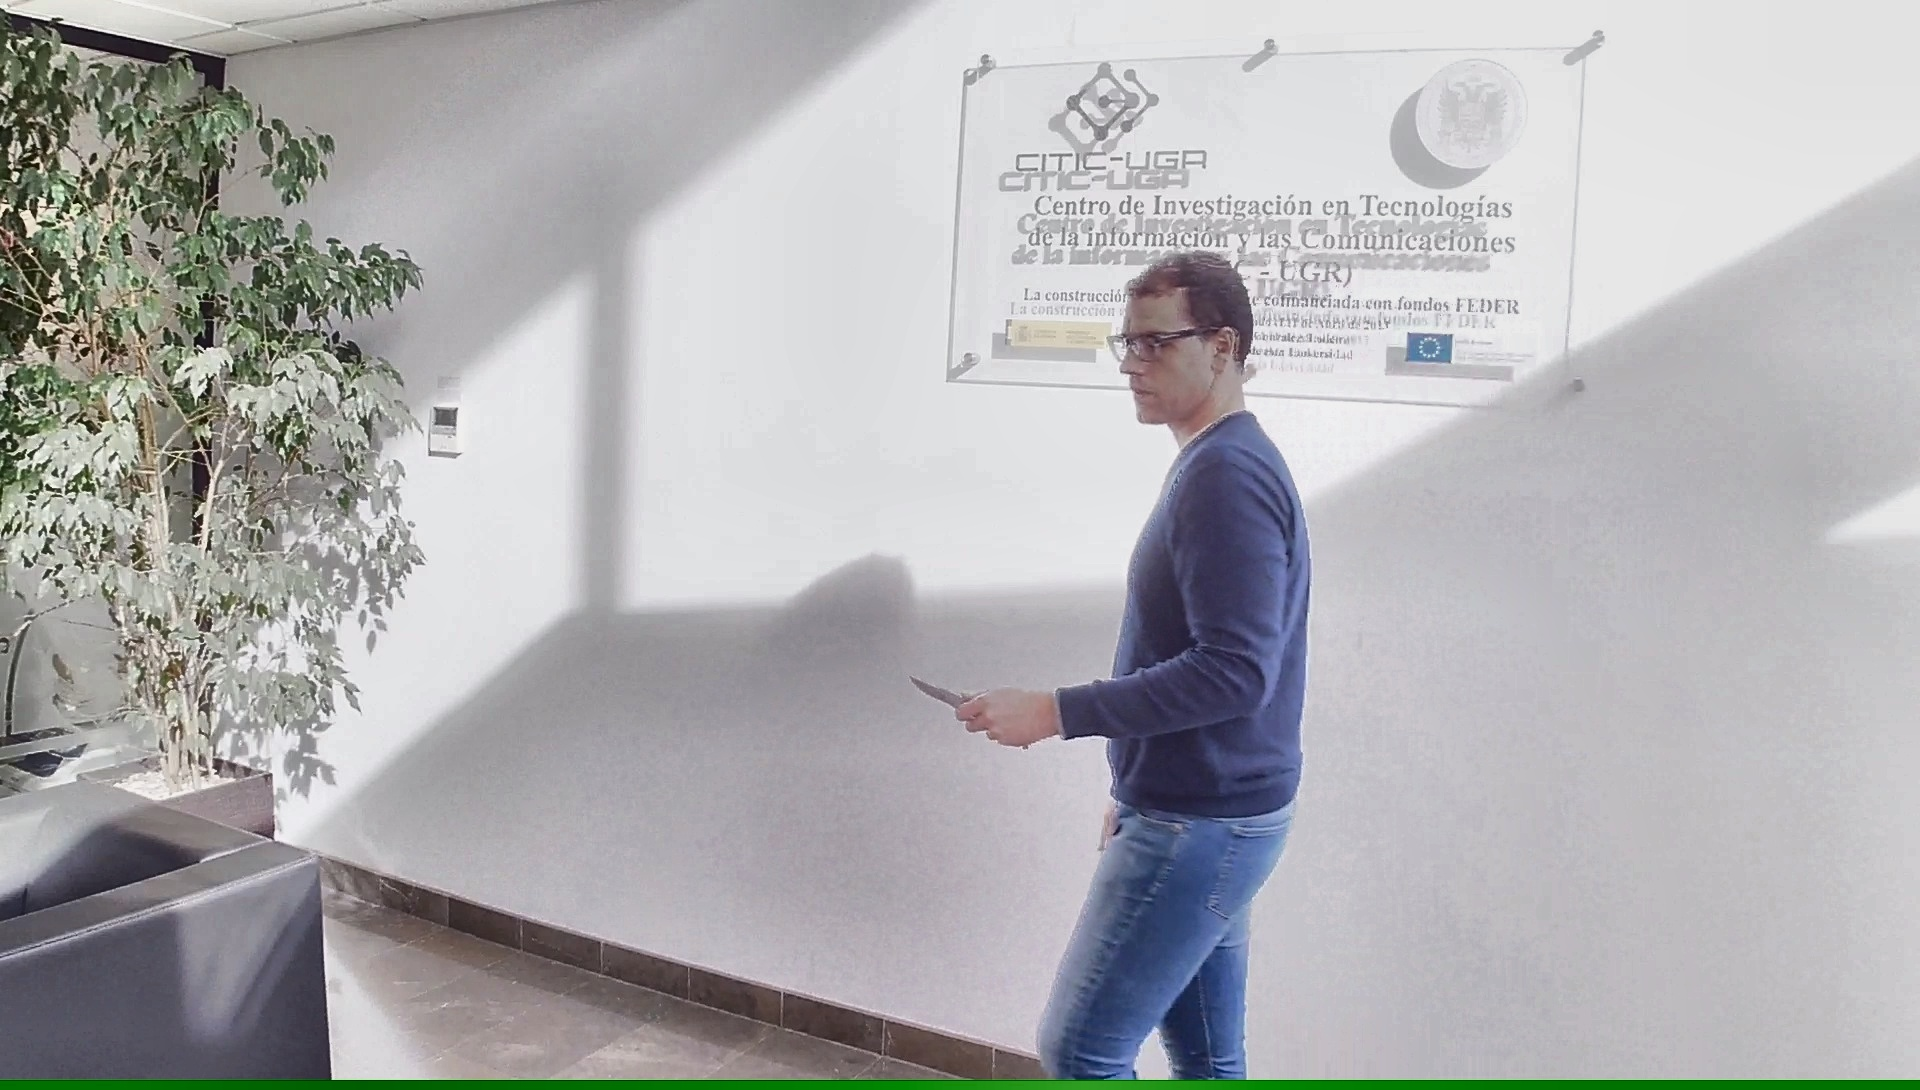knife: (901, 668, 1033, 755)
